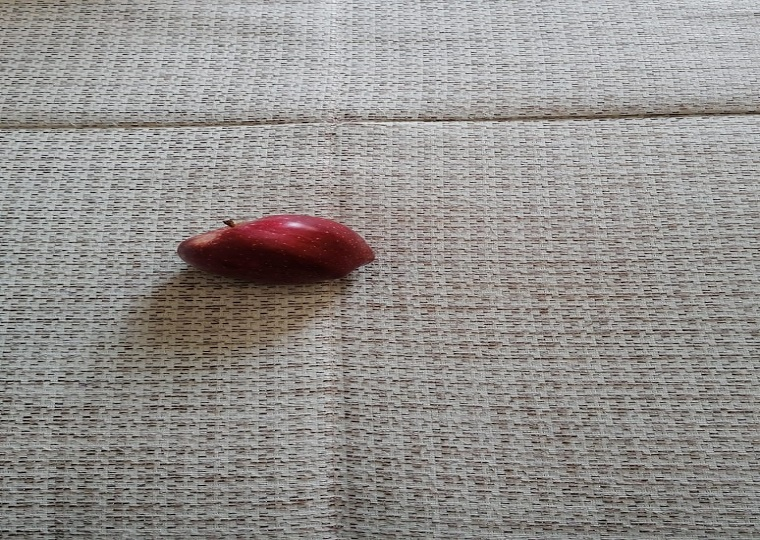elma: (176, 214, 376, 283)
